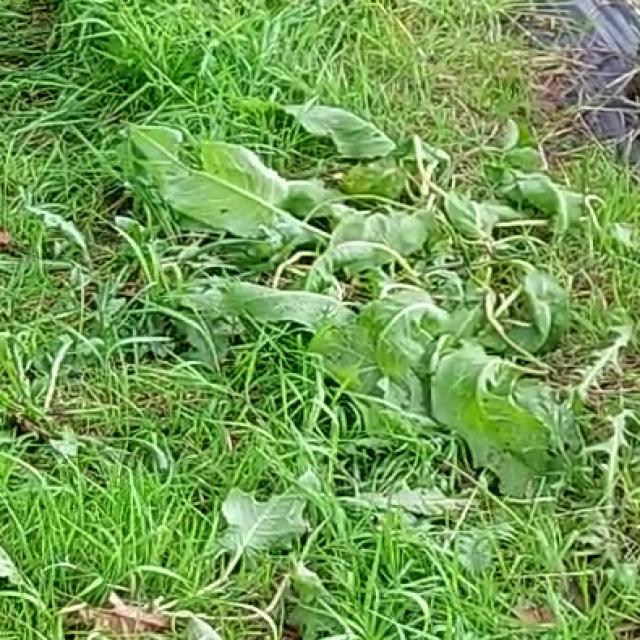organic waste: (128, 106, 640, 428)
